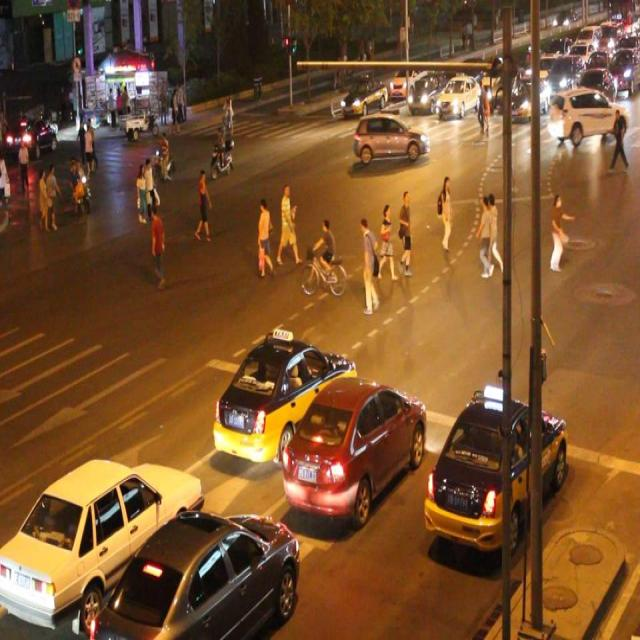car: (1, 456, 203, 627), (87, 506, 298, 640), (426, 395, 566, 552), (278, 380, 425, 518), (214, 331, 355, 463), (544, 87, 626, 141), (352, 114, 427, 163), (435, 75, 478, 115), (342, 75, 386, 112), (406, 70, 444, 111)
